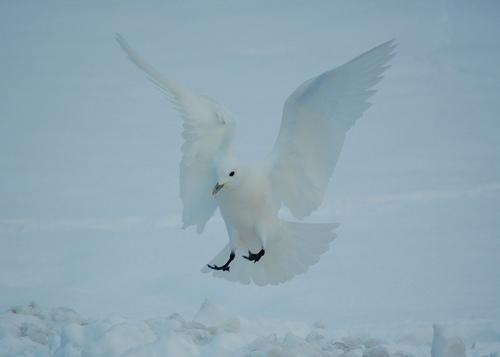bird: (105, 29, 405, 284)
